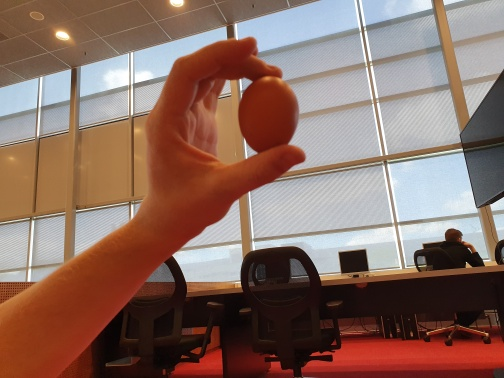egg: (239, 75, 300, 152)
